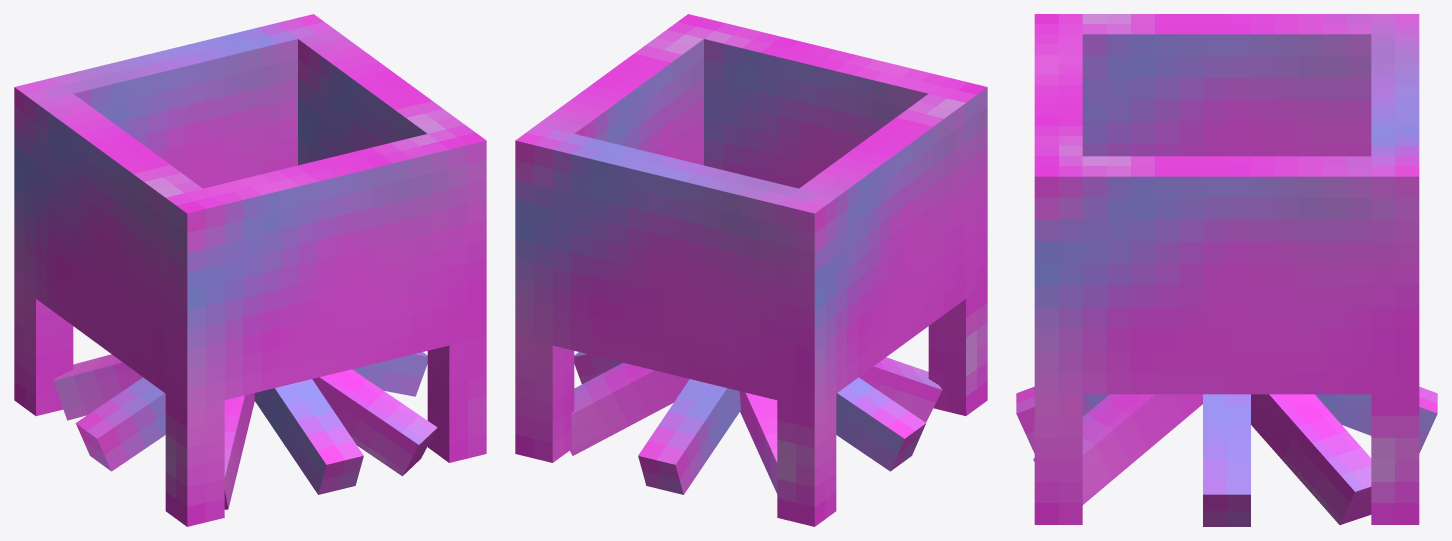
File: melting_crucible_formed.obj
3 views of the same model, side by side, from view 1: azimuth 30°, elevation 25°; view 2: azimuth 150°, elevation 25°; view 3: azimuth 270°, elevation 25° (orthographic). The views are drawn at different scales.
Visible parts, largest first — view 1: cube; view 2: cube; view 3: cube.
Boxes of the visible parts, box(x1,y1,x2,y2) form: cube: box(14, 14, 486, 526); cube: box(515, 14, 987, 526); cube: box(1016, 14, 1437, 526).
Bounding box in the file's own units: 1.11 × 1.03 × 1.1.
